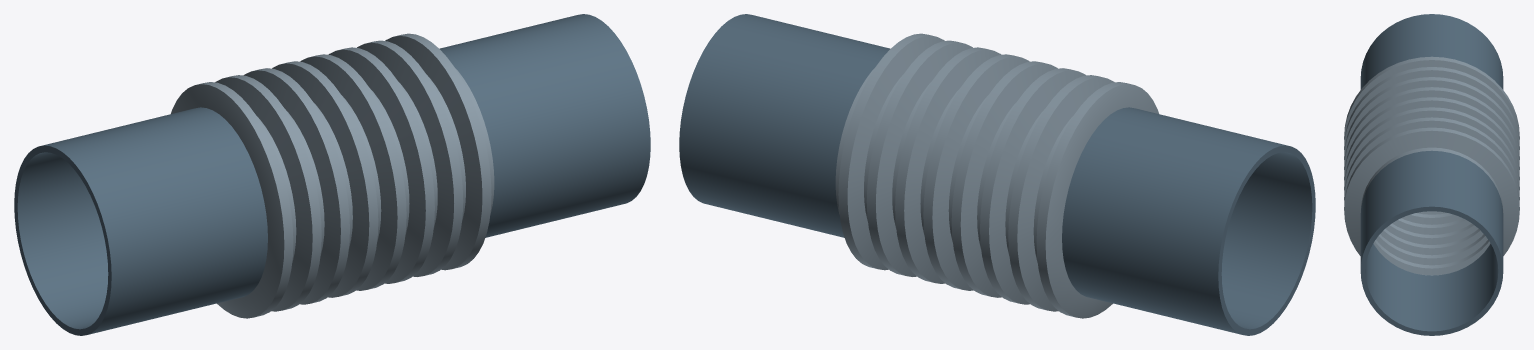
The model's file is silf-dn100-L345-D108.glb.
3 renders of one model, left to right at view 1: azimuth 30°, elevation 25°; view 2: azimuth 150°, elevation 25°; view 3: azimuth 270°, elevation 25°, orthographic. The views are drawn at different scales.
Visible parts, largest first — view 1: prokladka_silfon_1, patrubok_1, patrubok_2; view 2: prokladka_silfon_1, patrubok_1, patrubok_2; view 3: prokladka_silfon_1, patrubok_2, patrubok_1.
Boxes of the visible parts, x1,y1,x2,y2 form: prokladka_silfon_1: [171, 33, 494, 318]; patrubok_1: [14, 107, 267, 335]; patrubok_2: [439, 14, 650, 237]; prokladka_silfon_1: [835, 33, 1158, 318]; patrubok_1: [1062, 107, 1315, 335]; patrubok_2: [679, 14, 890, 237]; prokladka_silfon_1: [1344, 56, 1519, 275]; patrubok_2: [1360, 150, 1503, 335]; patrubok_1: [1360, 14, 1503, 89].
Size of the model in its own units: 345 by 133 by 133.
